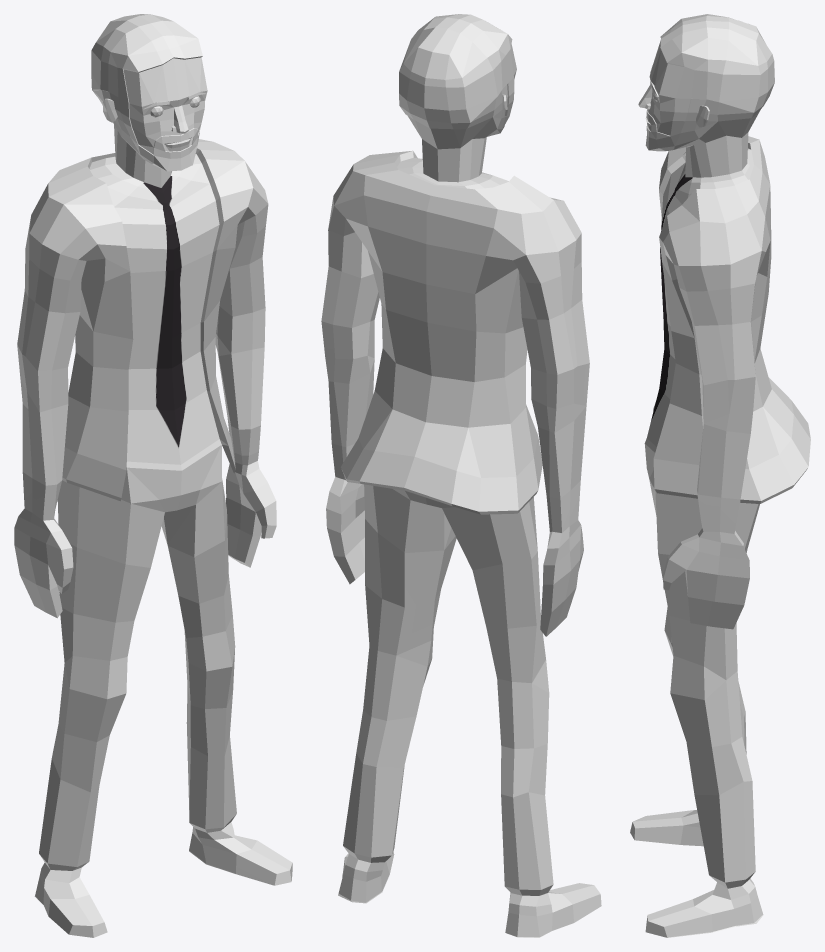
Rendered from male_suit.glb.
3 renders of one model, left to right at view 1: azimuth 30°, elevation 25°; view 2: azimuth 150°, elevation 25°; view 3: azimuth 270°, elevation 25°, orthographic. The views are drawn at different scales.
Parts seen in each view (by area): view 1: BaseHuman_Cylinder.002; view 2: BaseHuman_Cylinder.002; view 3: BaseHuman_Cylinder.002.
Boxes of the visible parts, x1,y1,x2,y2 form: BaseHuman_Cylinder.002: [14, 14, 292, 937]; BaseHuman_Cylinder.002: [321, 14, 601, 937]; BaseHuman_Cylinder.002: [630, 14, 810, 937].
Size of the model in its own units: 1.42 by 4.83 by 0.9217.
Materials: 7 (7 with a texture image).
